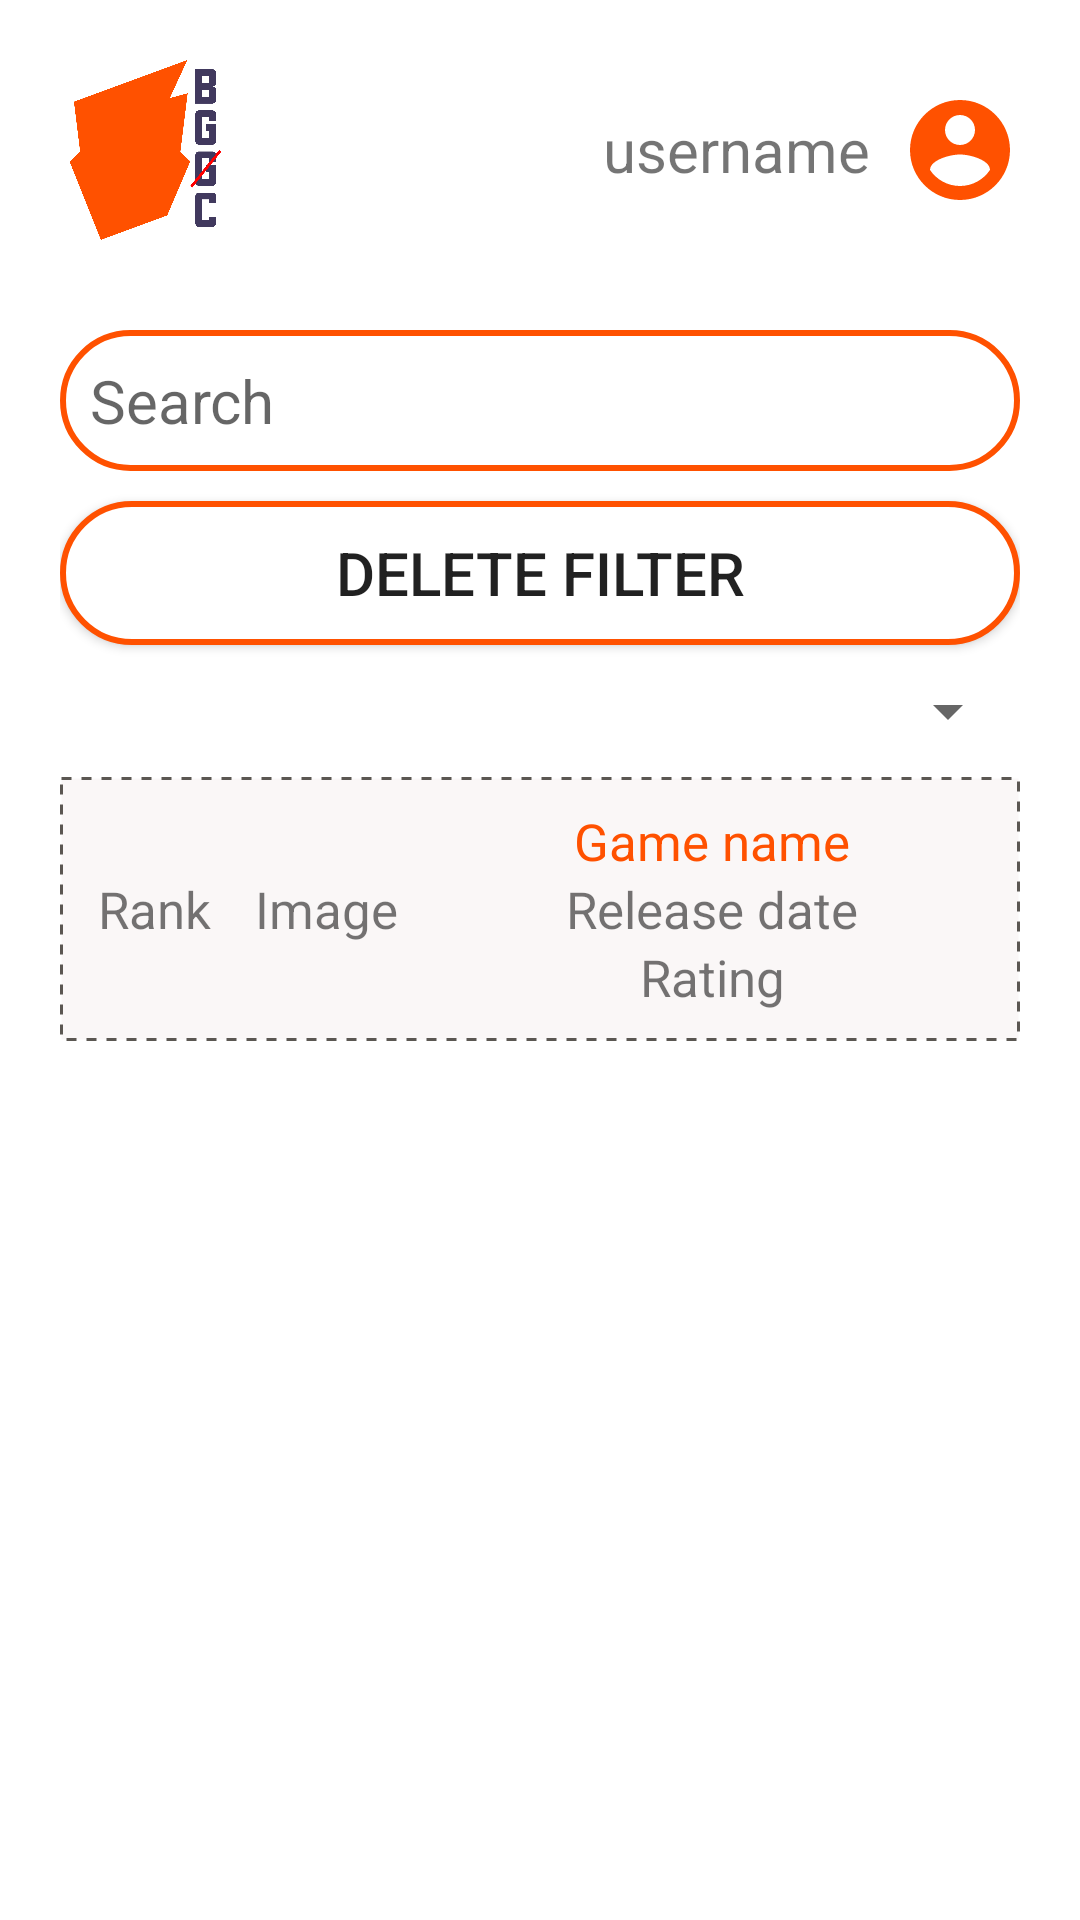

Icon click points for this 1080*1920 phone screenshot, format (x,y):
account circle: (960,150)
